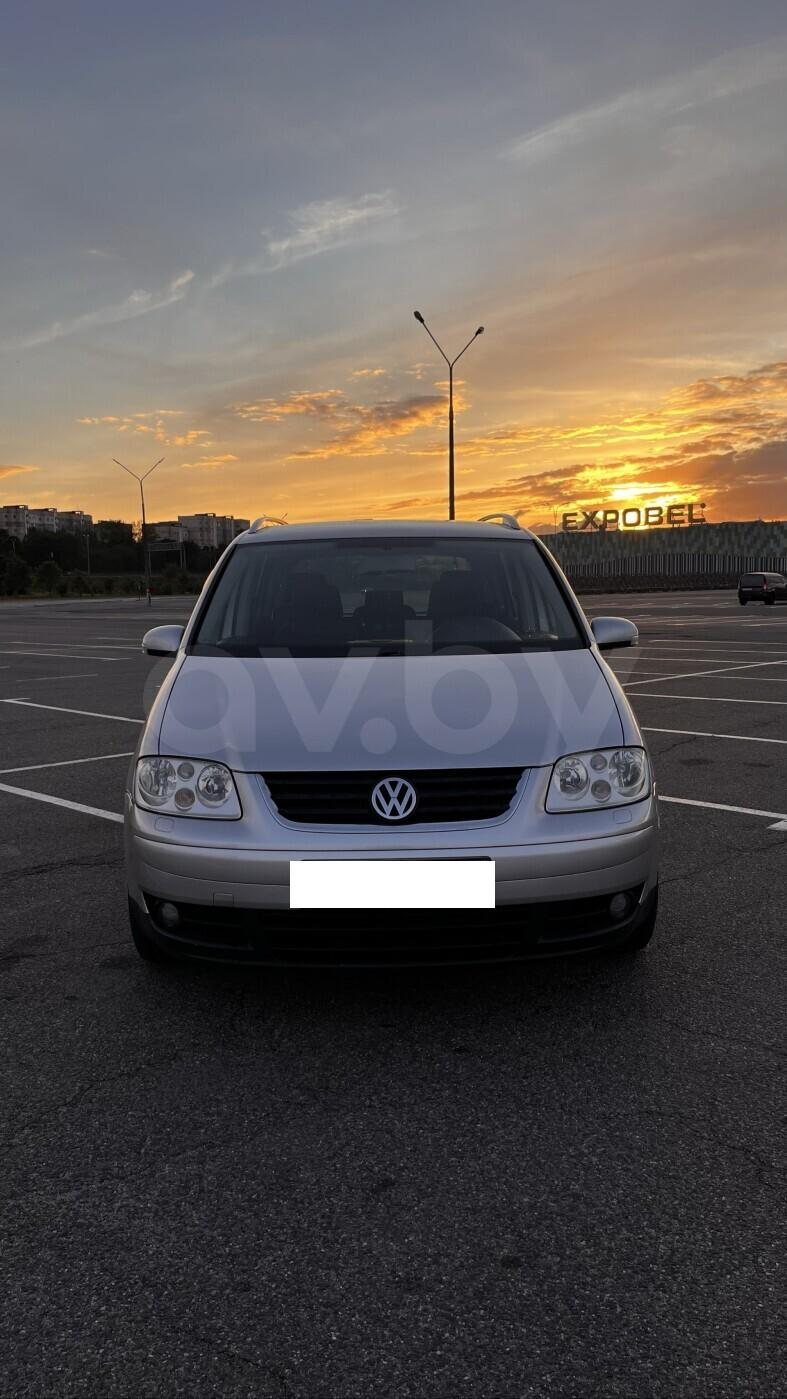Touran_2003-2006: (134, 520, 668, 962)
